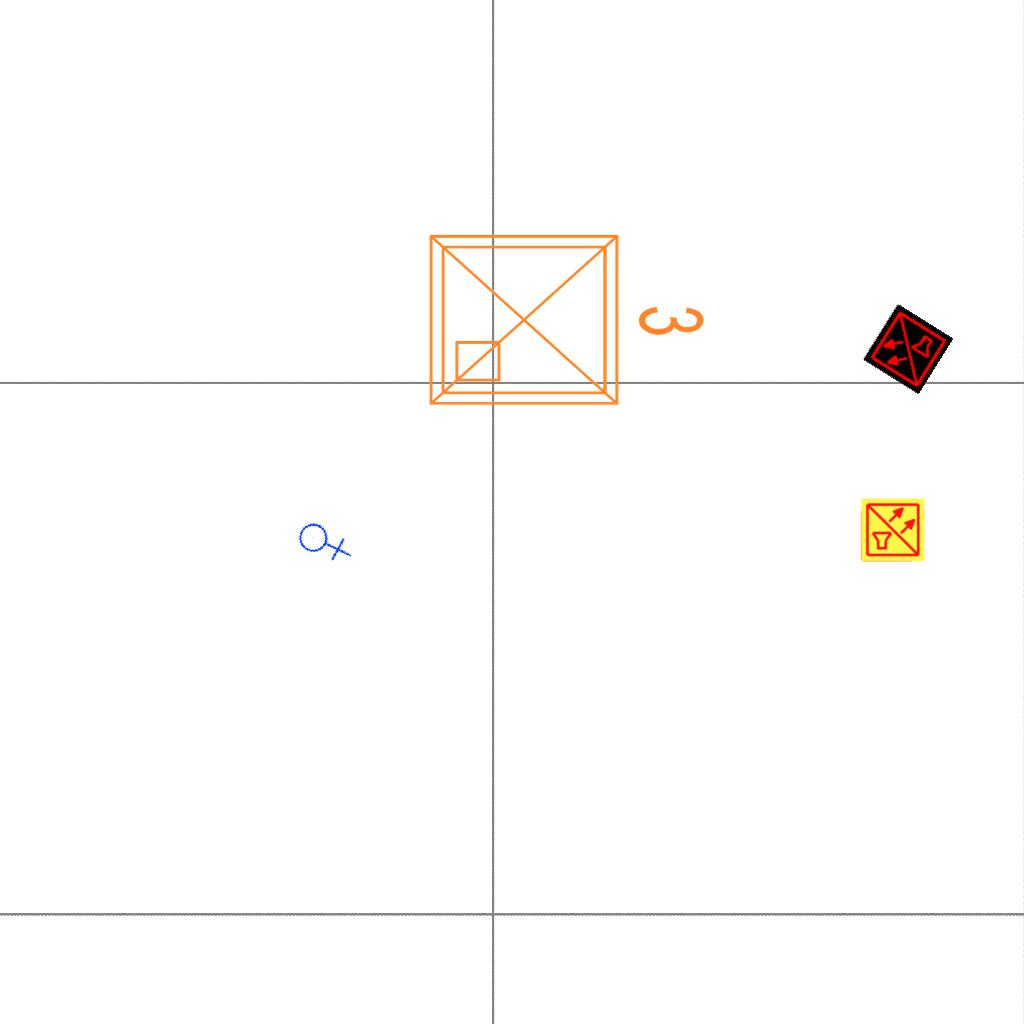Einbaudownlights_LED_Konferenzraeume: (415, 212, 715, 420)
Elektroanschluss_allgemein_230V_Geraeteanschlussdose_230V: (293, 509, 354, 572)
OKW_Multisensormelder_(Kombination_optischer_Rauch-Kahlenmonoxid_Waerme-Melder): (862, 303, 954, 395), (860, 497, 926, 563)
